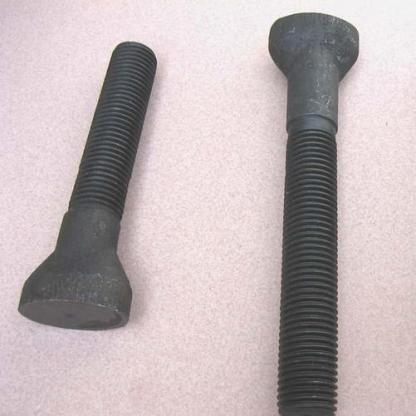FOD: (16, 44, 160, 332), (268, 12, 362, 415)
